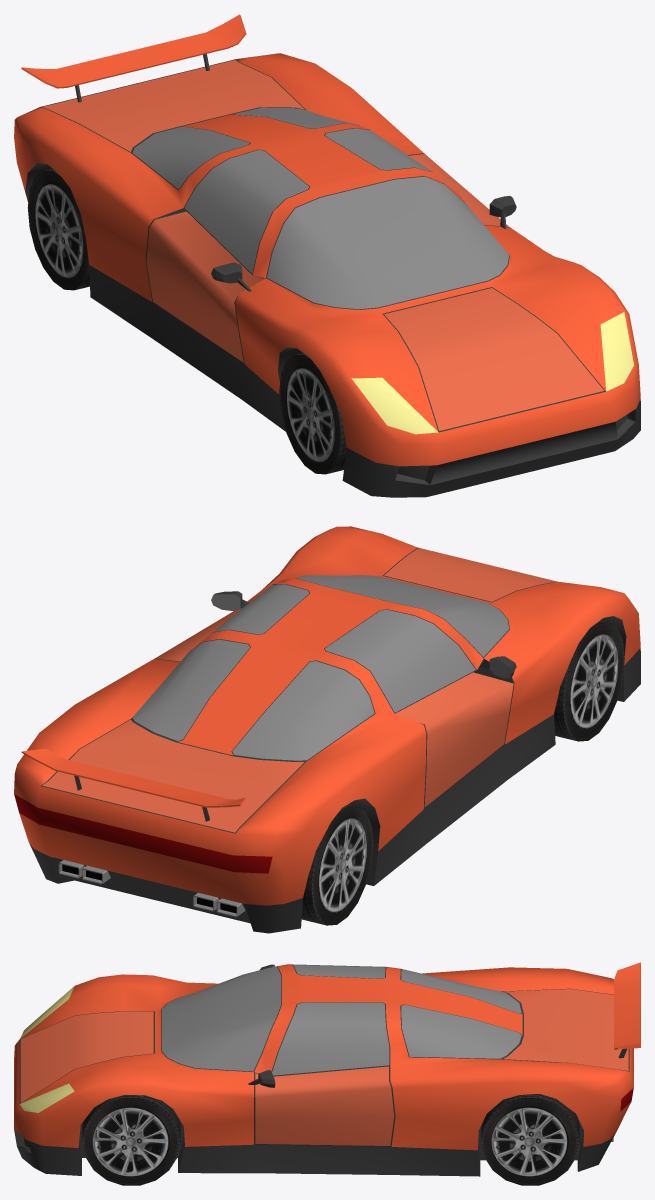
The model's file is Car 16.FBX.
3 views of the same model, one above another, from view 1: azimuth 30°, elevation 25°; view 2: azimuth 150°, elevation 25°; view 3: azimuth 270°, elevation 25° (orthographic). The views are drawn at different scales.
Visible parts, largest first — view 1: Car 16; view 2: Car 16; view 3: Car 16.
Part boxes in pixels (box(x1,y1,x2,y2)): Car 16: box(14, 14, 640, 497); Car 16: box(14, 526, 640, 933); Car 16: box(14, 962, 640, 1185).
Size of the model in its own units: 2.14 by 1.22 by 4.88.
